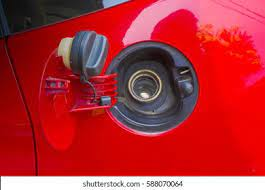open: (102, 38, 204, 140)
